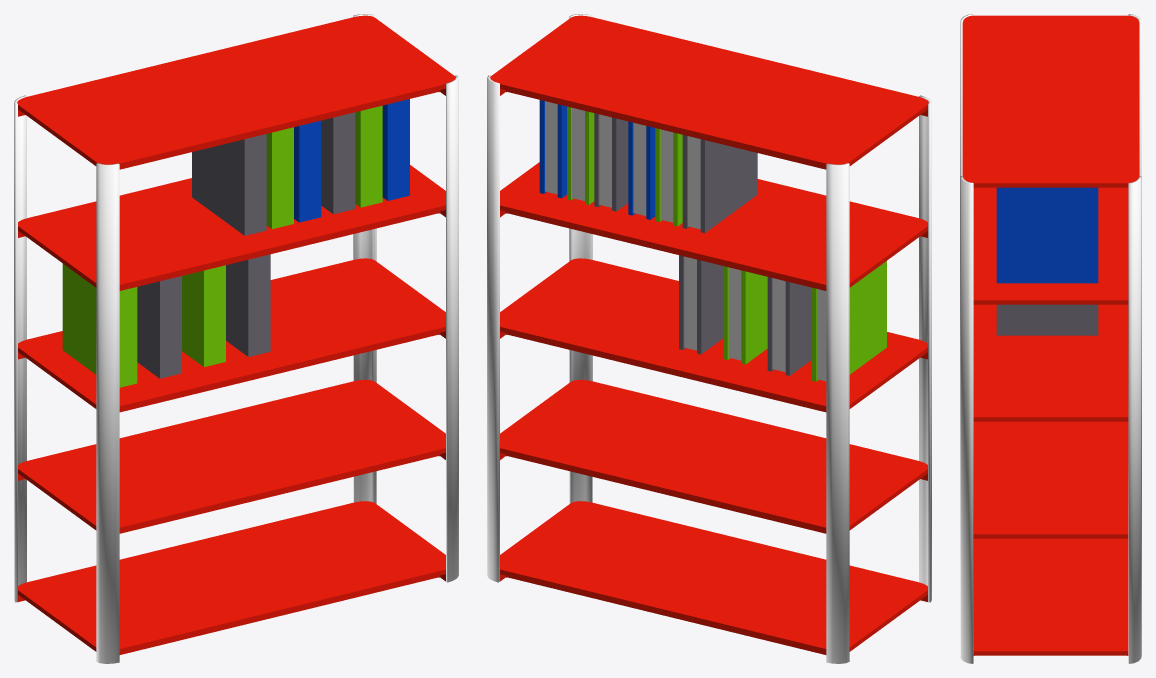
The model's file is Shelves.glb.
3 renders of one model, left to right at view 1: azimuth 30°, elevation 25°; view 2: azimuth 150°, elevation 25°; view 3: azimuth 270°, elevation 25°, orthographic. The views are drawn at different scales.
Visible parts, largest first — view 1: Cube, Cube.001, Book3, Book1, Book2, AnimBook1, AnimBook4, AnimBook2, AnimBook3; view 2: Cube, Cube.001, Book3, Book1, Book2, AnimBook1, AnimBook2, AnimBook4, AnimBook3; view 3: Cube, Cube.001, Book1, AnimBook4.
Boxes of the visible parts, x1=… form: Cube: x1=17, y1=15, x2=455, y2=654; Cube.001: x1=14, y1=14, x2=458, y2=663; Book3: x1=192, y1=112, x2=355, y2=235; Book1: x1=294, y1=99, x2=409, y2=222; Book2: x1=266, y1=105, x2=382, y2=229; AnimBook1: x1=62, y1=263, x2=137, y2=387; AnimBook4: x1=226, y1=254, x2=270, y2=356; AnimBook2: x1=137, y1=276, x2=181, y2=378; AnimBook3: x1=182, y1=265, x2=225, y2=366; Cube: x1=490, y1=15, x2=928, y2=654; Cube.001: x1=487, y1=14, x2=931, y2=663; Book3: x1=594, y1=113, x2=757, y2=233; Book1: x1=539, y1=100, x2=655, y2=219; Book2: x1=567, y1=106, x2=682, y2=226; AnimBook1: x1=812, y1=261, x2=886, y2=381; AnimBook2: x1=767, y1=277, x2=811, y2=375; AnimBook4: x1=679, y1=255, x2=723, y2=354; AnimBook3: x1=723, y1=266, x2=767, y2=364; Cube: x1=962, y1=15, x2=1139, y2=655; Cube.001: x1=960, y1=14, x2=1141, y2=663; Book1: x1=996, y1=187, x2=1098, y2=283; AnimBook4: x1=996, y1=304, x2=1098, y2=335.
Bounding box in the file's own units: 1.82 × 2.4 × 0.8238.
